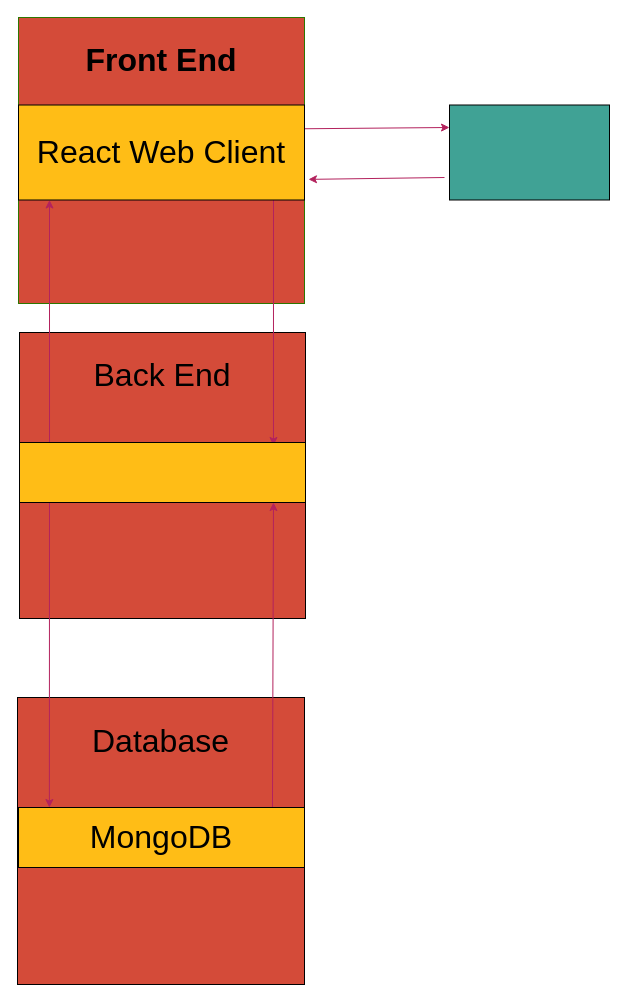
Image size: 627x1002. Some labels were removed from this diagram. The centre of each missing label's shape, as x and y in pixels:
ExpressJS API: (x=162, y=472)
Pokemon API: (x=529, y=152)
